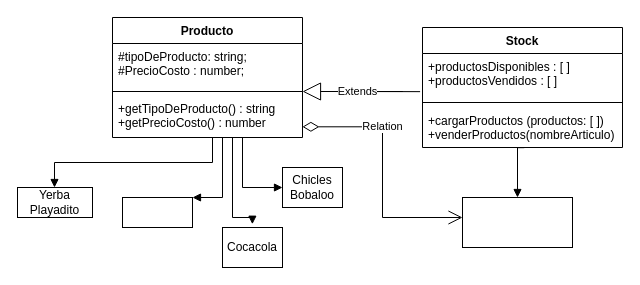
The diagram is 640 pixels wide and 285 high, and some of its shapes have lost their labels. The centre of each missing label's shape, as x and y in pixels:
"Alfajor fantoche" belongs at (157,212).
"stockKiosco" belongs at (517,222).
